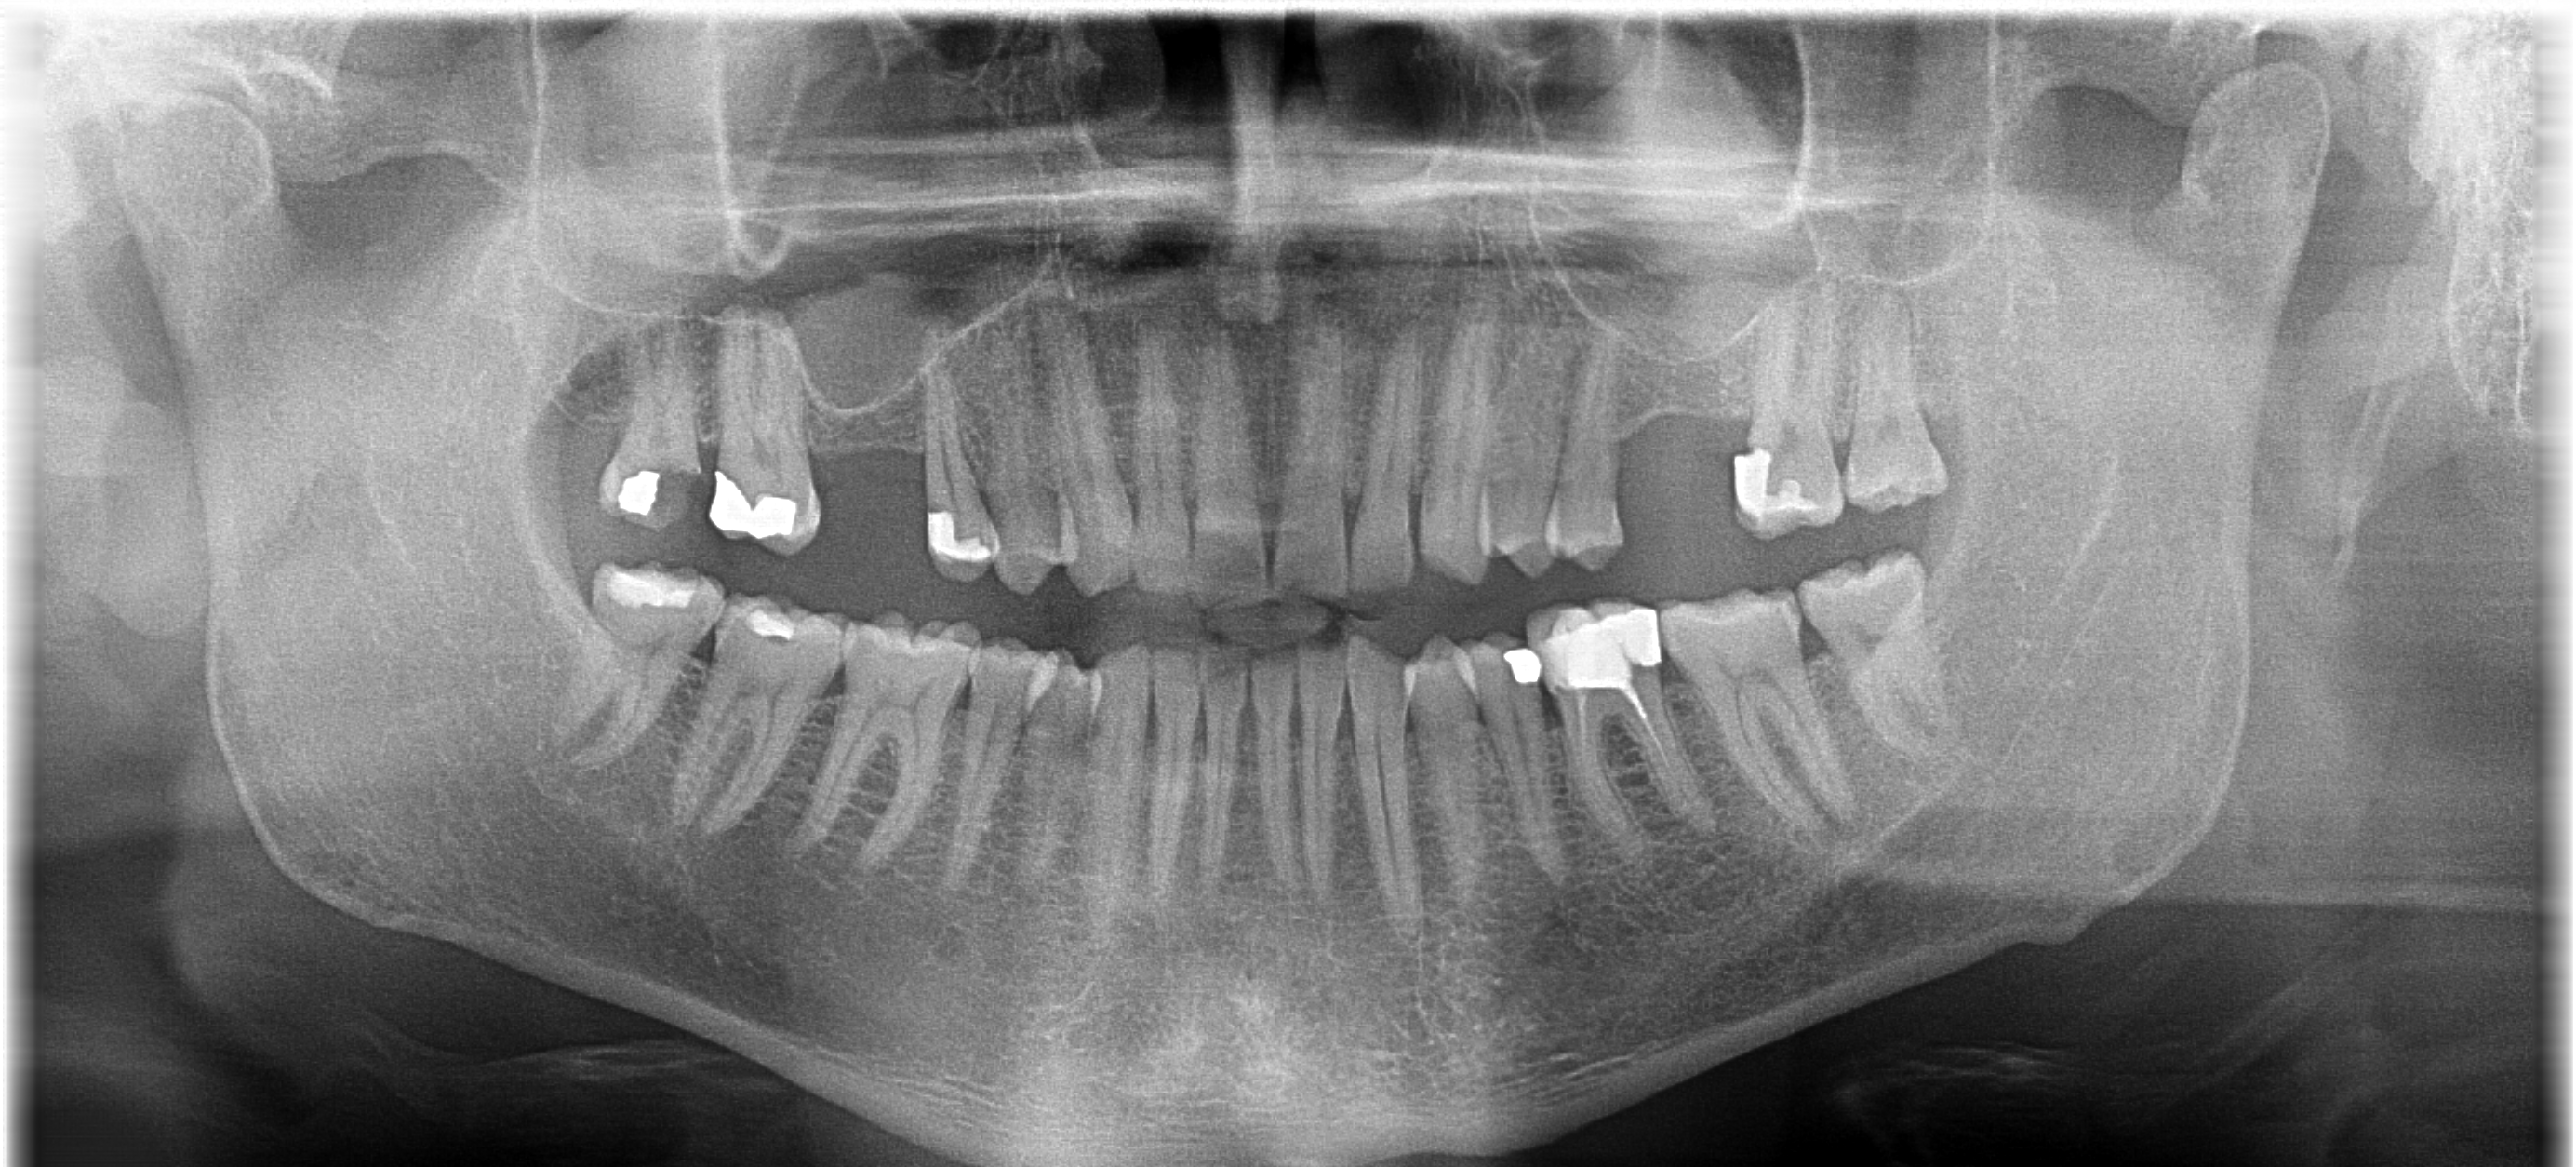caries: (573, 409, 744, 565)
cordal: (1779, 291, 2016, 551), (516, 542, 751, 800), (1771, 523, 2006, 781), (532, 306, 767, 564)
tratamiento_conducto: (1520, 580, 1725, 876)
zona_dentula: (1580, 319, 1782, 567), (797, 352, 961, 597)
